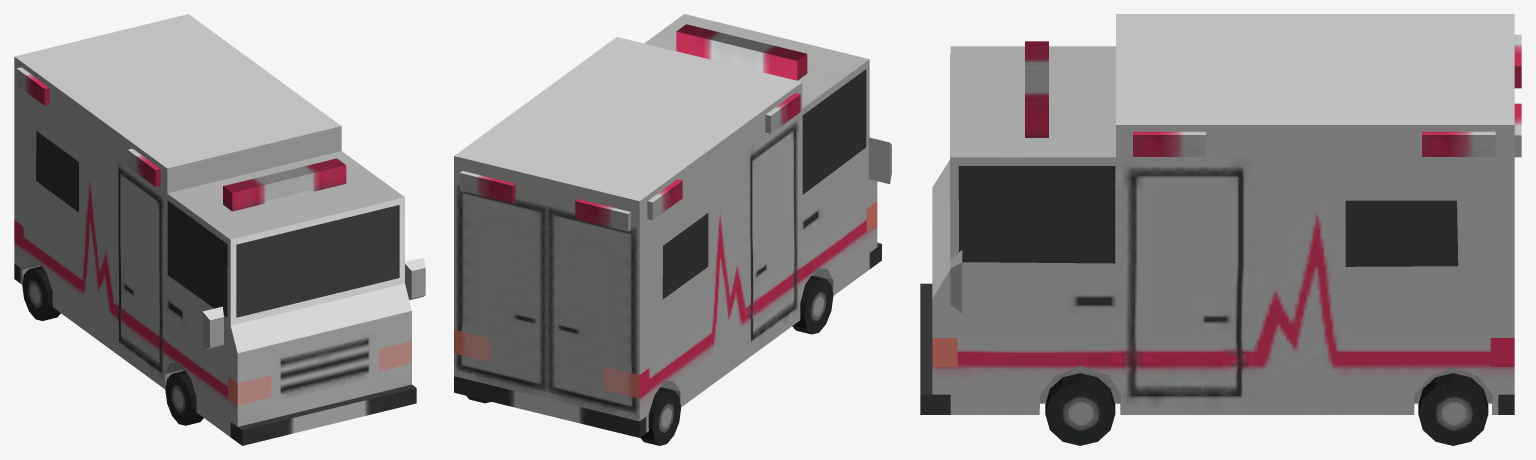
File: ambo_seperate.fbx
The picture shows the model from 3 angles, left to right: view 1: azimuth 30°, elevation 25°; view 2: azimuth 150°, elevation 25°; view 3: azimuth 270°, elevation 25°; orthographic projection. The views are drawn at different scales.
Parts seen in each view (by area): view 1: ambo_seperate; view 2: ambo_seperate; view 3: ambo_seperate.
Boxes of the visible parts, left/top/right/bottom form: ambo_seperate: left=14, top=14, right=425, bottom=445; ambo_seperate: left=454, top=14, right=891, bottom=445; ambo_seperate: left=920, top=14, right=1521, bottom=445.
Bounding box in the file's own units: 3.43 × 3.64 × 6.21.
